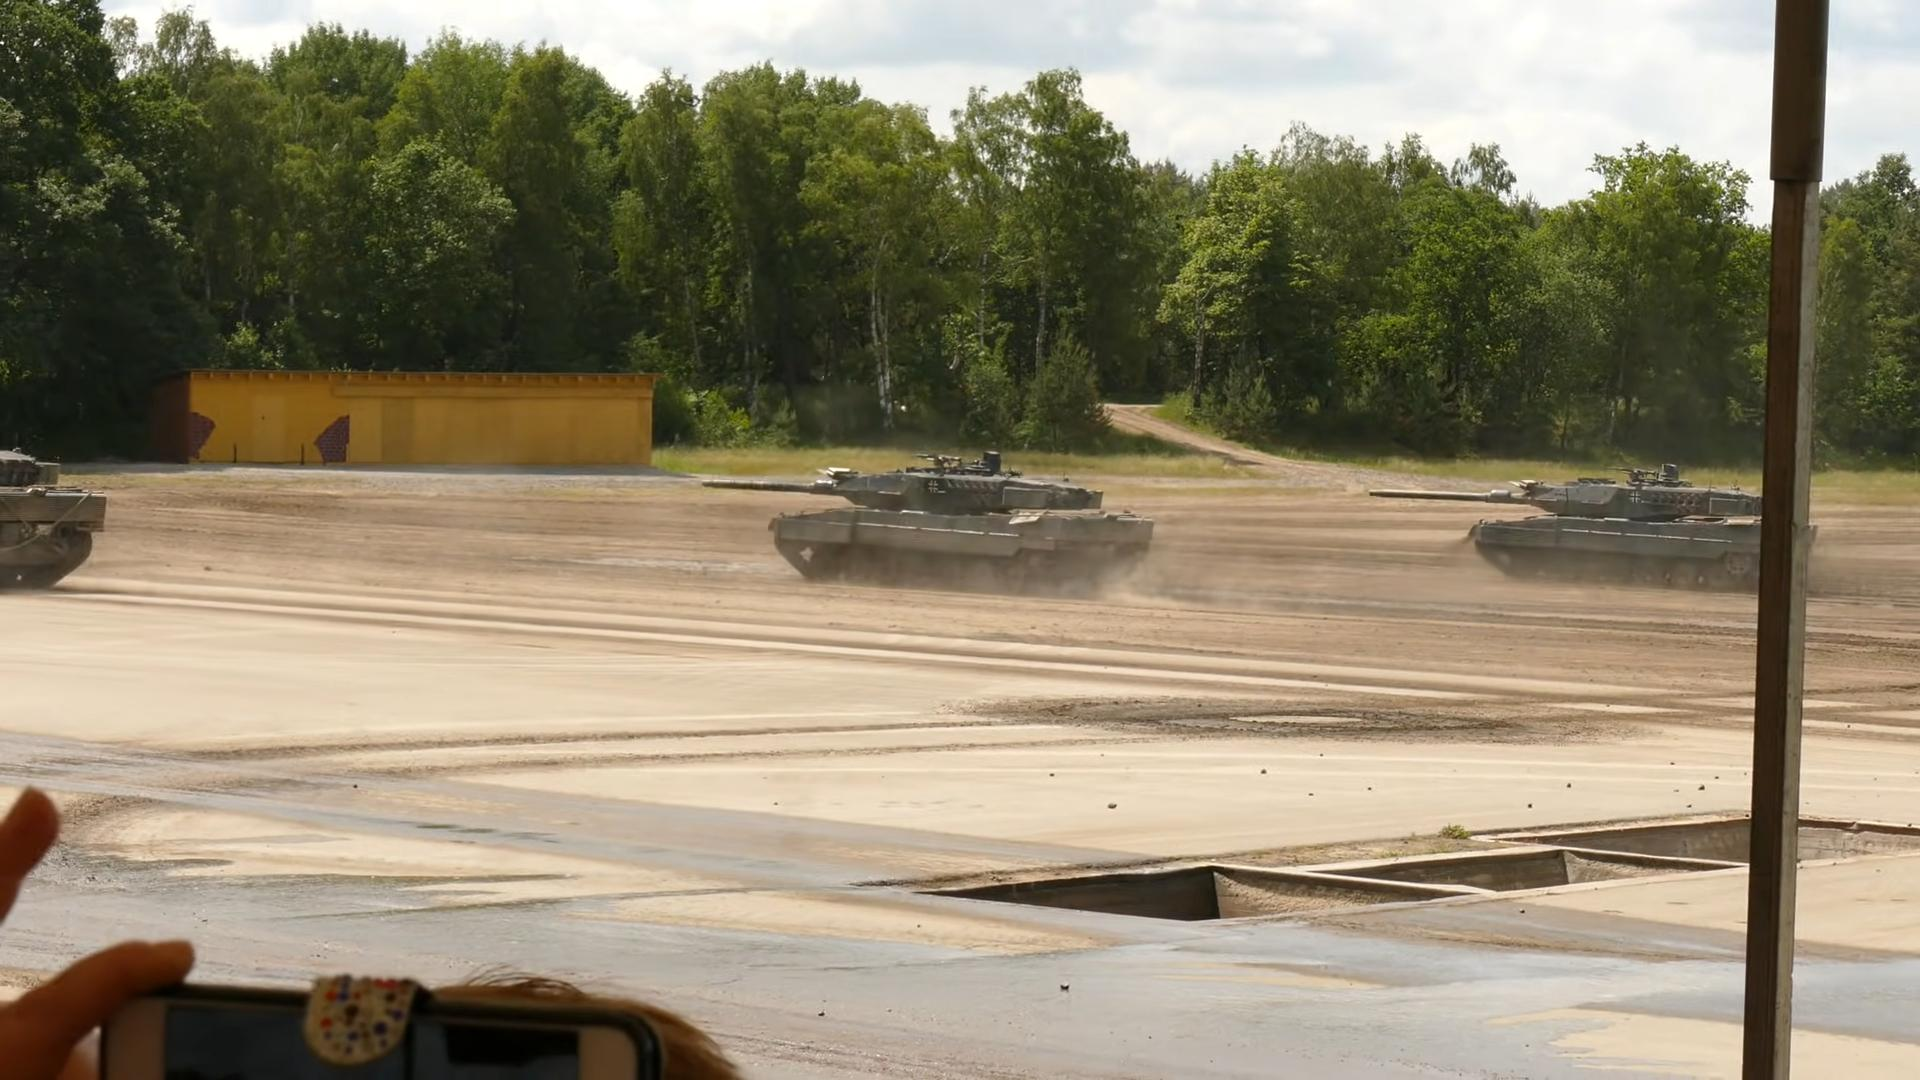tank: (702, 451, 1154, 595), (1369, 463, 1762, 596), (0, 450, 108, 588)
